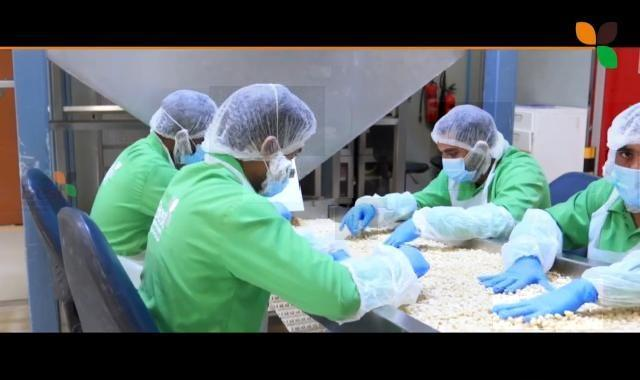apron: (494, 280, 604, 330), (472, 244, 558, 290), (336, 198, 388, 240), (393, 243, 442, 286), (378, 209, 426, 252)
gloves: (210, 86, 326, 156), (430, 102, 512, 164), (150, 88, 217, 137), (604, 102, 640, 147)
mask: (244, 159, 301, 202), (430, 149, 483, 192), (606, 150, 640, 212), (163, 132, 208, 170)
